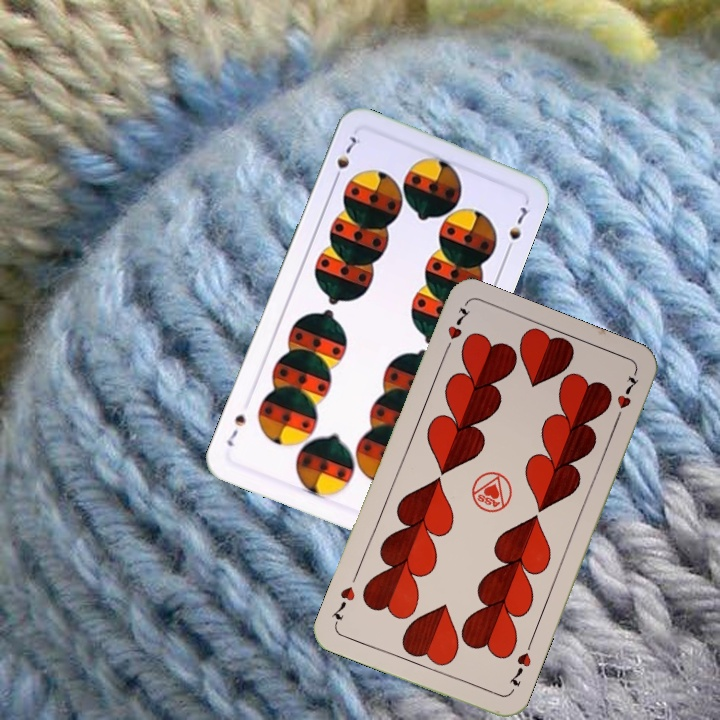H7: (439, 303, 472, 357), (504, 648, 534, 689)
S7: (329, 132, 364, 186)
